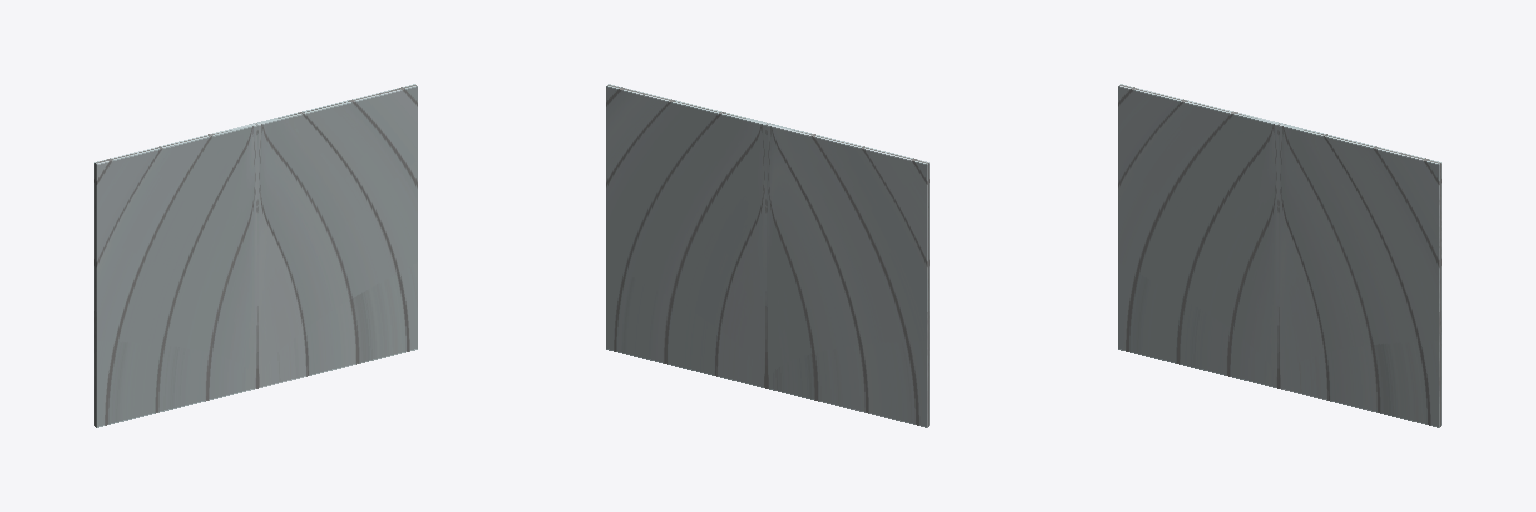
The picture shows the model from 3 angles: view 1: azimuth 30°, elevation 25°; view 2: azimuth 150°, elevation 25°; view 3: azimuth 330°, elevation 25°; orthographic projection.
Parts seen in each view (by area): view 1: obj1; view 2: obj1; view 3: obj1.
Boxes of the visible parts, x1,y1,x2,y2 form: obj1: [94, 84, 417, 427]; obj1: [606, 84, 929, 427]; obj1: [1118, 84, 1441, 427].
Bounding box in the file's own units: 0.512 × 0.4019 × 0.0079.
1 materials, 1 textured.